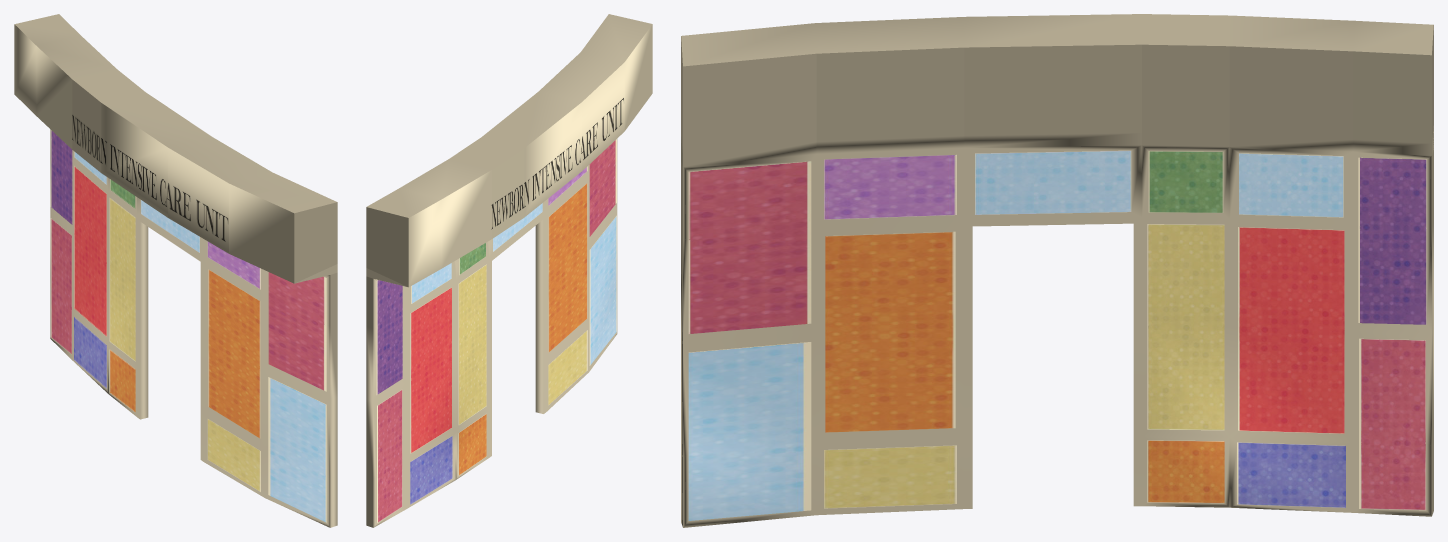
The model's file is glassthing.fbx.
3 views of the same model, side by side, from view 1: azimuth 30°, elevation 25°; view 2: azimuth 150°, elevation 25°; view 3: azimuth 270°, elevation 25° (orthographic). The views are drawn at different scales.
Parts seen in each view (by area): view 1: desk_glass_thing:polySurface1; view 2: desk_glass_thing:polySurface1; view 3: desk_glass_thing:polySurface1.
Part boxes in pixels (x1,y1,x2,y2): desk_glass_thing:polySurface1: (14,14,337,527); desk_glass_thing:polySurface1: (366,14,652,527); desk_glass_thing:polySurface1: (681,14,1433,527).
Bounding box in the file's own units: 0.3271 × 1.34 × 1.98.
Materials: 2 (1 with a texture image).
